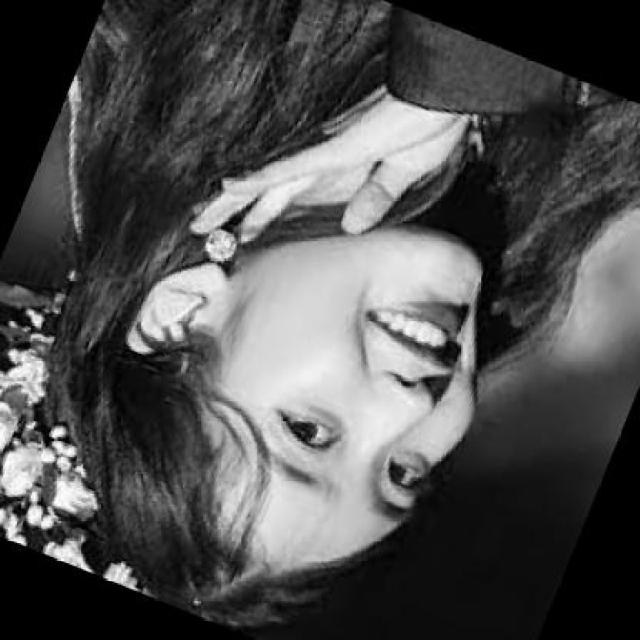earphone: (137, 278, 232, 343)
